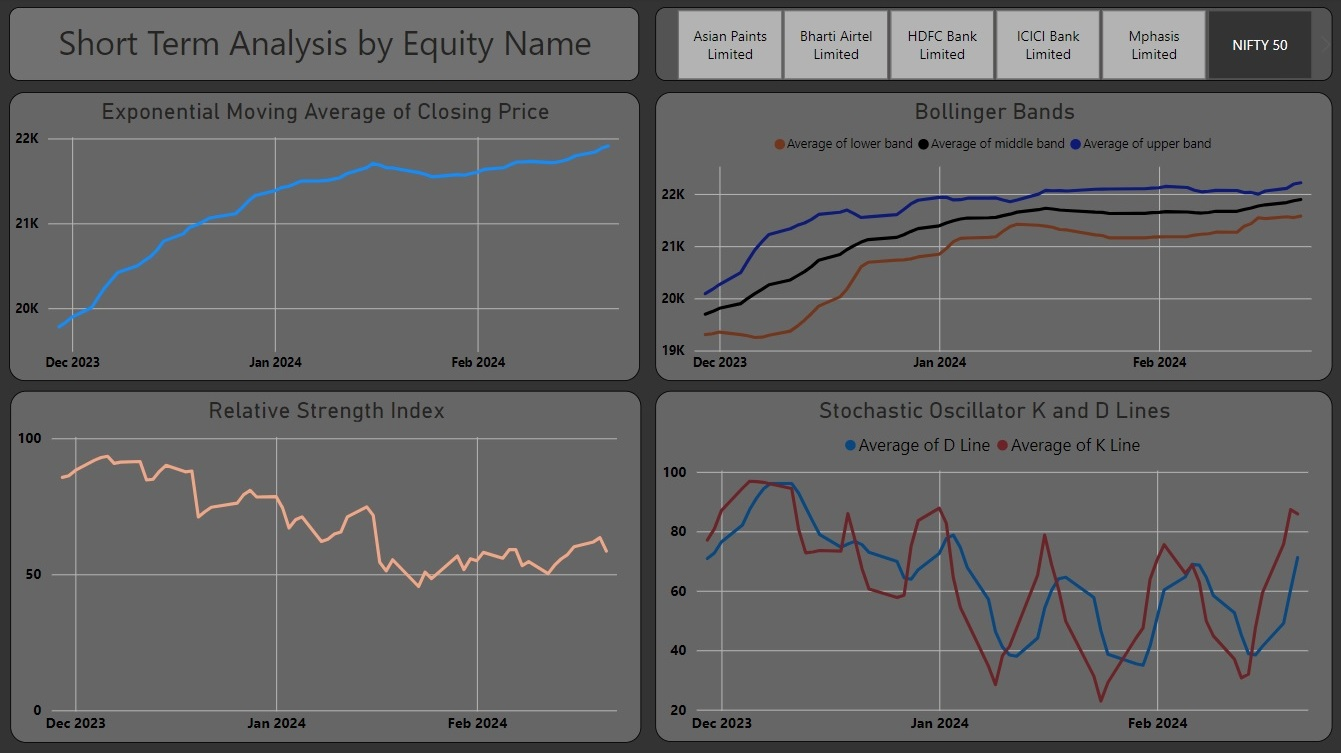

The page's visual inventory and layout, read from the dashboard file:
{"tool":"powerbi","page":{"name":"Short Term Analysis","canvas":[1280,720],"ordinal":1},"visuals":[{"type":"slicer","title":"Equity Name","fields":{"Values":["public equity.company_name"]},"box":[624.8,9.5,645,70.2],"z":0},{"type":"textbox","box":[10,10,600,70],"z":1000},{"type":"lineChart","title":"Exponential Moving Average of Closing Price","fields":{"Y":["Avg(short_term_analysis.exp_moving_avg_close)"],"Category":["short_term_analysis.date"]},"box":[9.5,90.4,601,275],"z":2000},{"type":"lineChart","title":"Bollinger Bands","fields":{"Category":["short_term_analysis.date"],"Y":["Avg(short_term_analysis.bb_low)","Avg(short_term_analysis.bb_mid)","Avg(short_term_analysis.bb_up)"]},"box":[624.8,90.4,645,274.9],"z":3000},{"type":"lineChart","title":"Relative Strength Index","fields":{"Category":["short_term_analysis.date"],"Y":["Avg(short_term_analysis.rsi_close)"]},"box":[10.7,375,601,335],"z":4000},{"type":"lineChart","title":"Stochastic Oscillator K and D Lines","fields":{"Category":["short_term_analysis.date"],"Y":["Avg(short_term_analysis.stochastic_osc_dline)","Avg(short_term_analysis.stochastic_osc_kline)"]},"box":[624.8,374.9,645,334.4],"z":5000}]}

Visuals, with their boxes in screenshot pixels (x1, y1, x2, y2), scaled from the page's 1280x720 canvas onto the 1341x753 screenshot:
"Equity Name" slicer: <bbox>655, 10, 1330, 83</bbox>
textbox: <bbox>10, 10, 639, 84</bbox>
"Exponential Moving Average of Closing Price" lineChart: <bbox>10, 95, 640, 382</bbox>
"Bollinger Bands" lineChart: <bbox>655, 95, 1330, 382</bbox>
"Relative Strength Index" lineChart: <bbox>11, 392, 641, 743</bbox>
"Stochastic Oscillator K and D Lines" lineChart: <bbox>655, 392, 1330, 742</bbox>
